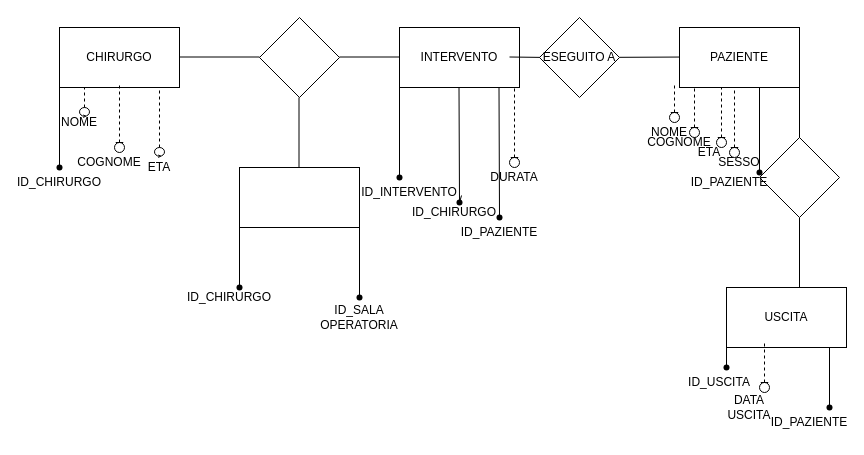
Image size: 864x455. Some labels were removed from this diagram. The shapes that lost their labels are listed below. From the top down, each one's box as (x1, y1, x2, y2) in pixels, then its label:
(258, 16, 340, 98): POSSIEDE
(238, 166, 360, 228): SALA OPERATORIA
(758, 136, 840, 218): RICEVE
